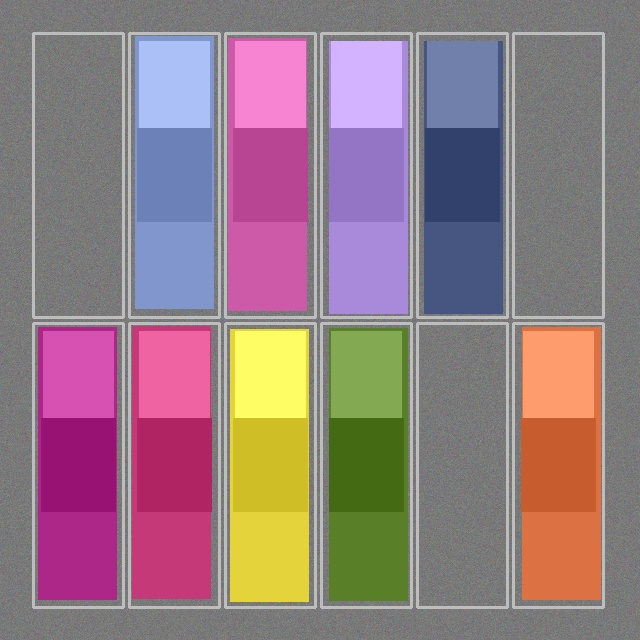space-empty: (35, 35, 121, 315), (515, 35, 601, 315), (419, 325, 505, 605)
space-occupied: (131, 35, 217, 315), (227, 35, 313, 315), (323, 35, 409, 315), (419, 35, 505, 315), (35, 325, 121, 605), (131, 325, 217, 605), (227, 325, 313, 605), (323, 325, 409, 605), (515, 325, 601, 605)
